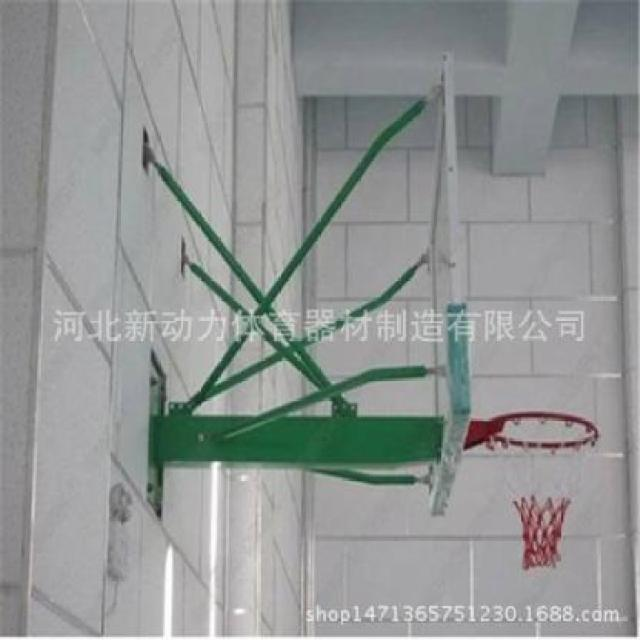rim: (495, 411, 601, 571)
